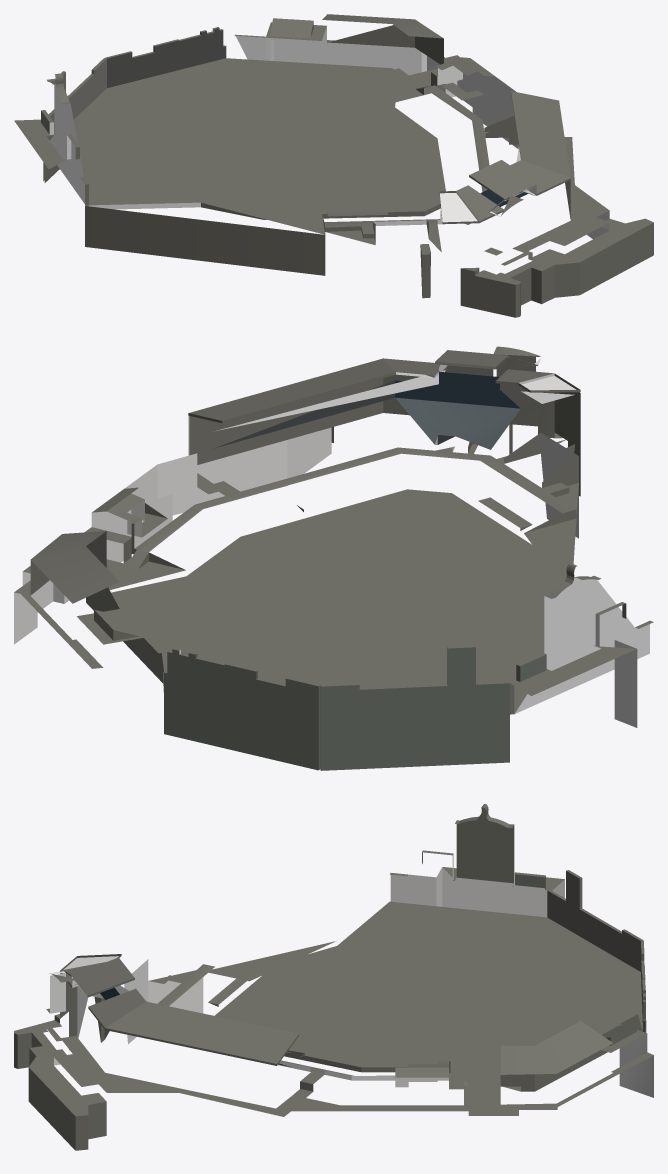
Rendered from at-t-field-model.glb.
3 views of the same model, one above another, from view 1: azimuth 30°, elevation 25°; view 2: azimuth 150°, elevation 25°; view 3: azimuth 270°, elevation 25° (orthographic). The views are drawn at different scales.
Parts seen in each view (by area): view 1: LOD0; view 2: LOD0; view 3: LOD0.
Part boxes in pixels (x1,y1,x2,y2): LOD0: (14, 14, 653, 317); LOD0: (14, 346, 653, 770); LOD0: (14, 804, 653, 1150).
Size of what is drawn, in the model's own units: 161 by 46.61 by 191.
Materials: 2 (2 with a texture image).
